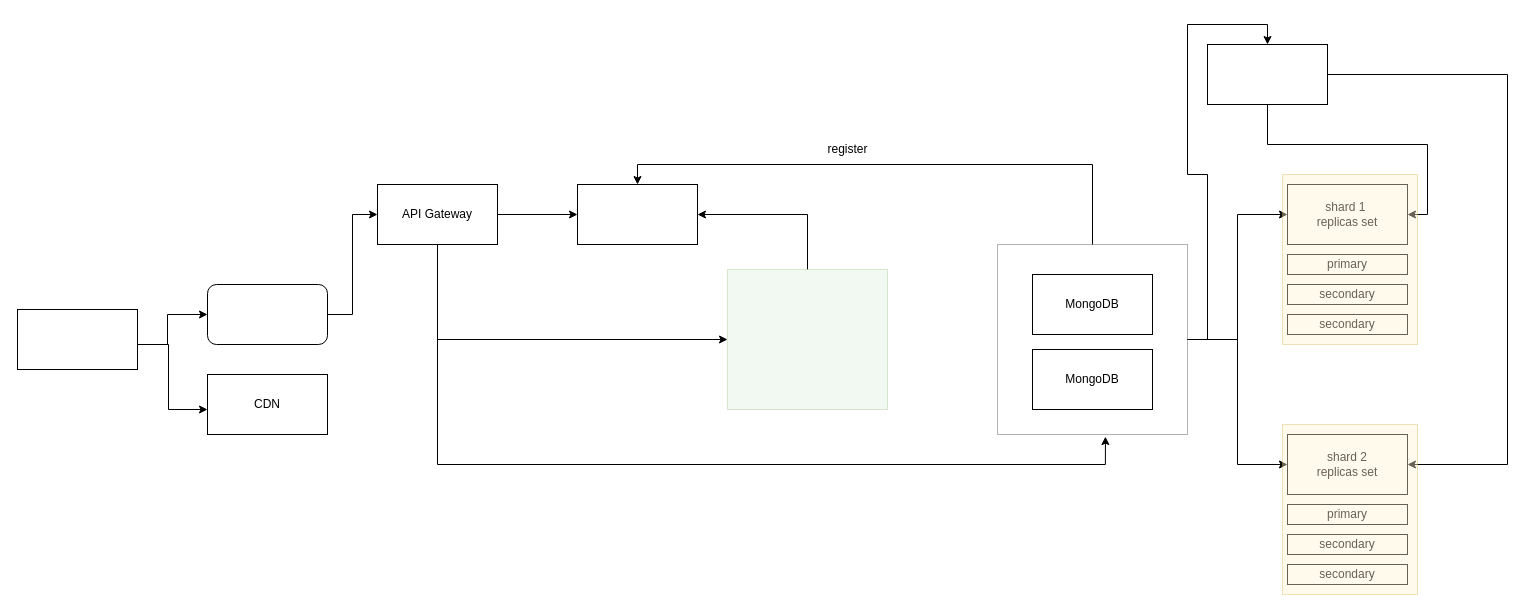
This 1533x612 diagram has some shape labels left out. Here are the shapes that lost their labels. From the top down, the box of each, then its label:
(1206, 44, 1328, 104): Config server
(576, 184, 698, 244): Consul
(206, 284, 328, 344): pymongo-api
(16, 308, 138, 370): Users
(726, 268, 888, 410): Redis
